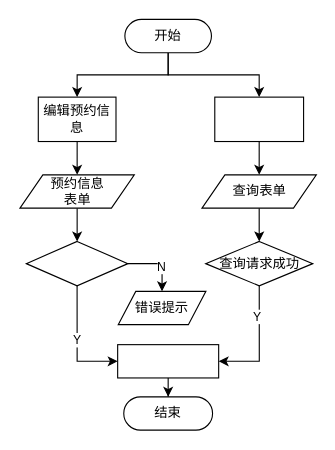
Some shapes in this 335 by 450 pixel diagram are drawn without their labels. Each missing label, with the centre of its shape:
"修改请求成功" belongs at (76,263).
"更新预约列表" belongs at (168,361).
"模糊查询" belongs at (259,119).
